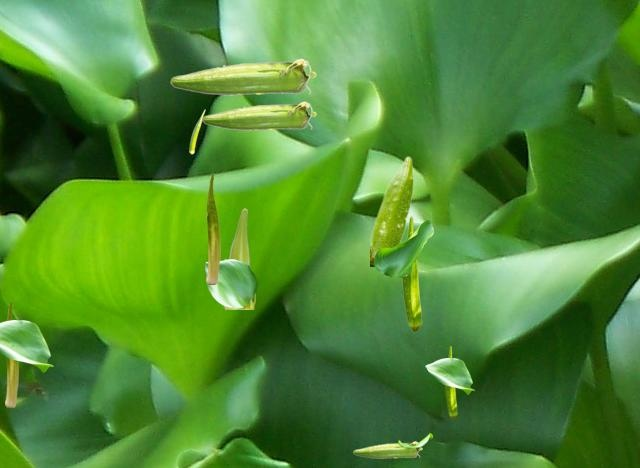okra: (170, 58, 315, 94), (370, 155, 413, 265), (203, 101, 315, 129), (223, 208, 254, 308), (402, 216, 421, 331), (206, 173, 219, 283), (5, 301, 17, 406), (353, 441, 421, 457), (445, 346, 456, 418), (189, 109, 204, 153)
